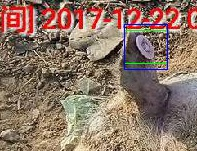text: (124, 30, 167, 63)
